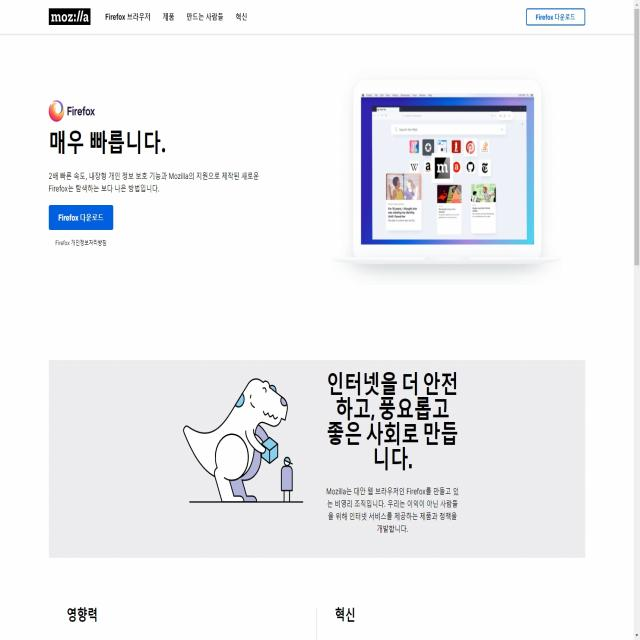menu-bar: (100, 3, 257, 30)
